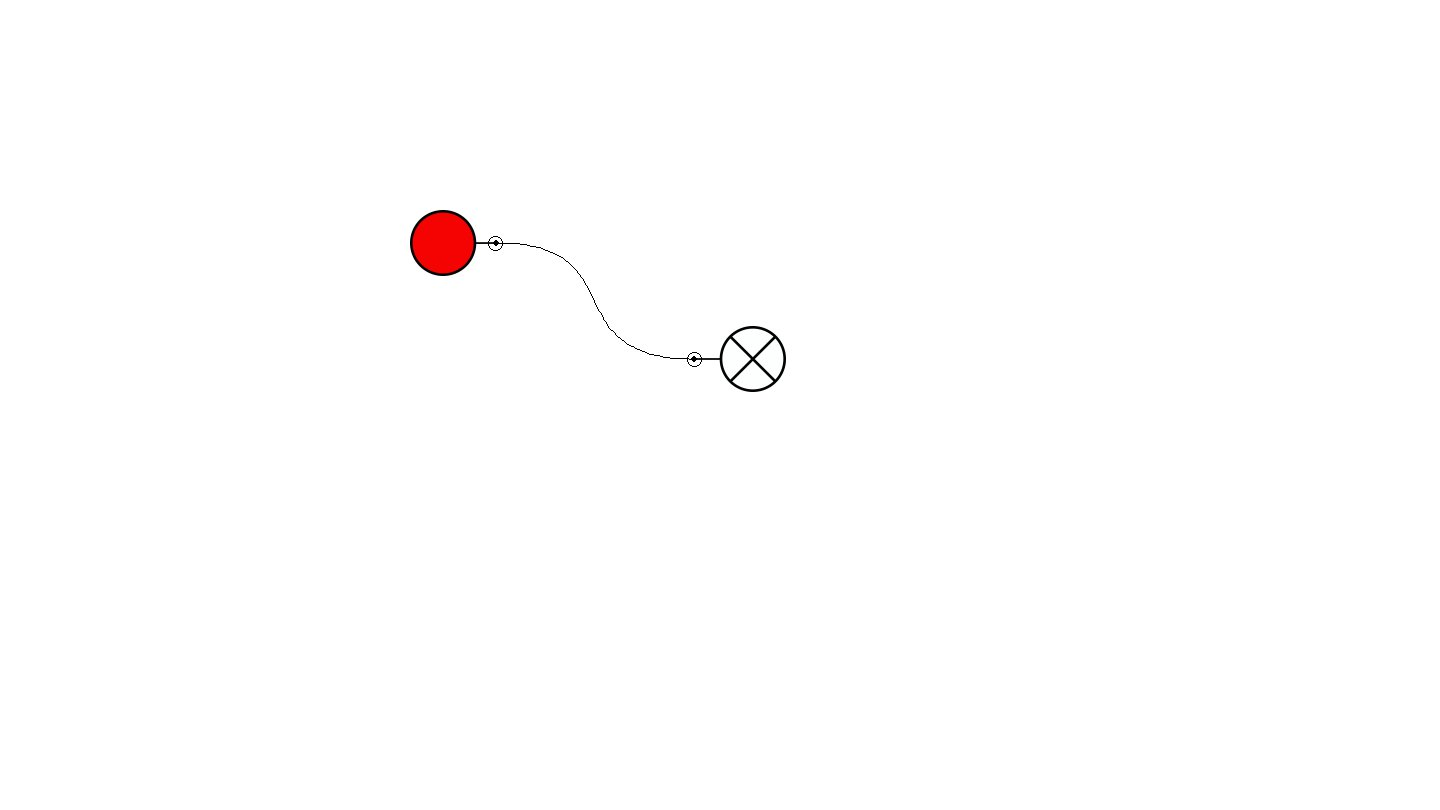bulb: (687, 326, 786, 392)
switch_False: (410, 210, 503, 276)
